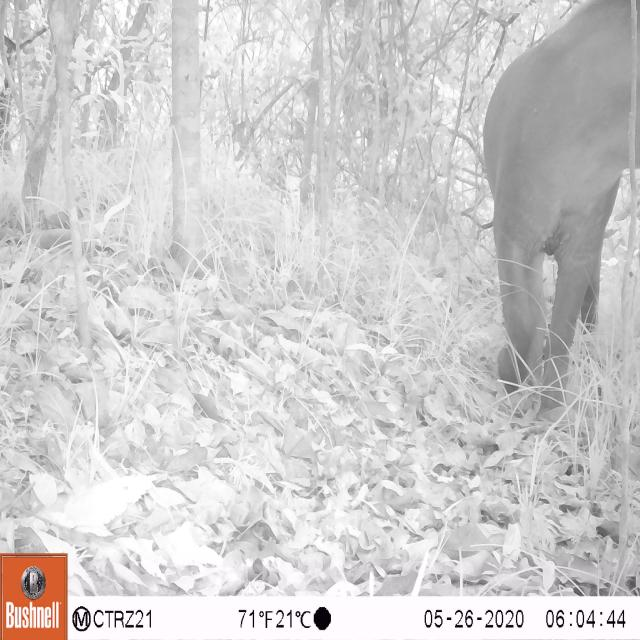Lowland Tapir: (459, 0, 639, 405)
